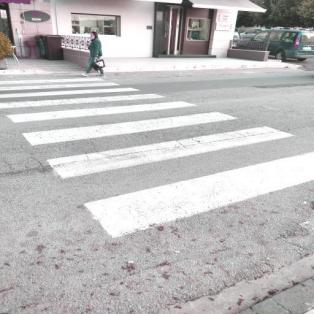Paso de Cebra: (20, 108, 299, 184), (0, 81, 145, 101)
